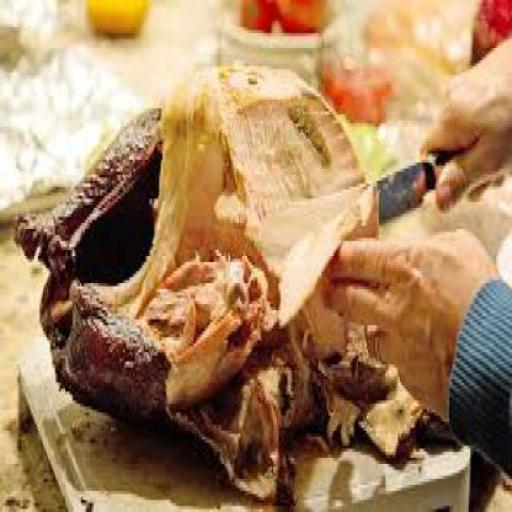biodegradable: (12, 57, 434, 494), (116, 70, 375, 313), (12, 96, 170, 298), (43, 262, 196, 431), (147, 244, 271, 401), (209, 370, 293, 510), (314, 334, 391, 440), (356, 377, 436, 470), (318, 24, 391, 124), (275, 328, 322, 449), (467, 0, 510, 60), (84, 0, 151, 33), (271, 0, 332, 27), (236, 0, 277, 37)
metal: (376, 153, 430, 226)
